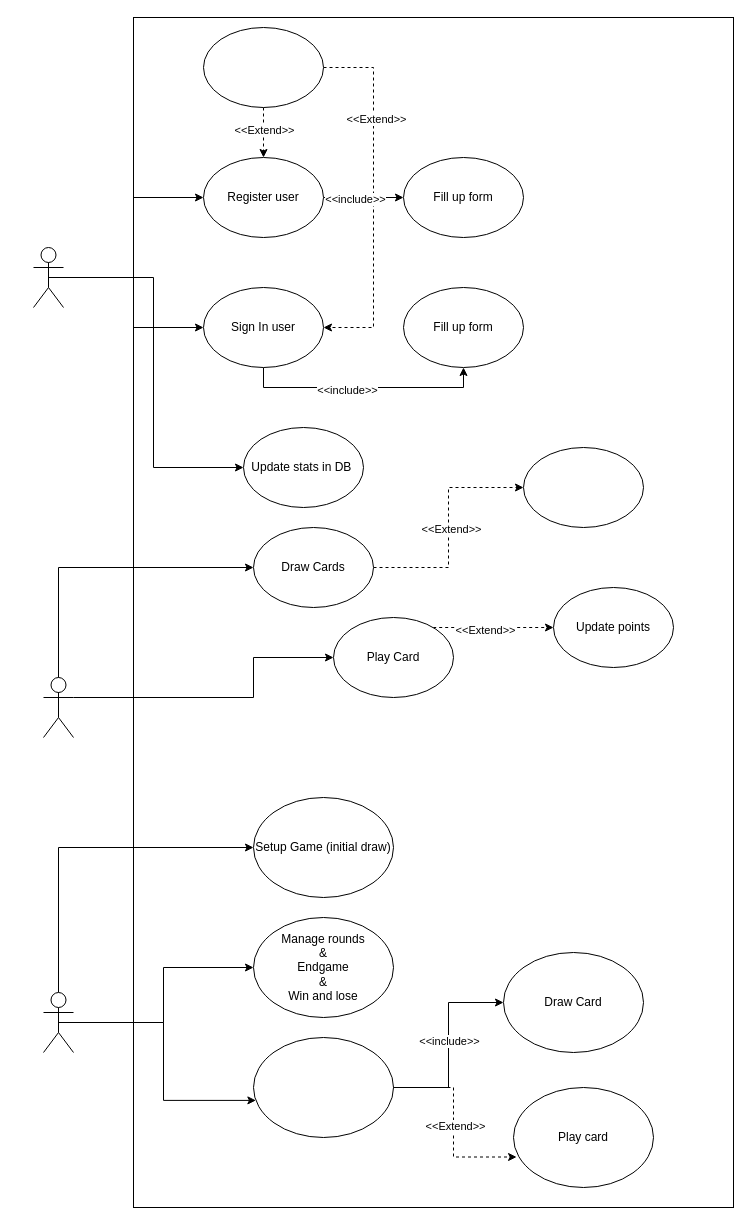
The diagram is 751 pixels wide and 1225 high, and some of its shapes have lost their labels. Here are the shapes that lost their labels. From the top down, the centre of each, then its label:
At pixel 263 67: "Invalid Username or password".
At pixel 48 277: "Firebase".
At pixel 583 487: "Discard Card".
At pixel 58 707: "Player".
At pixel 58 1022: "Game Manager".
At pixel 323 1087: "Control AI".
